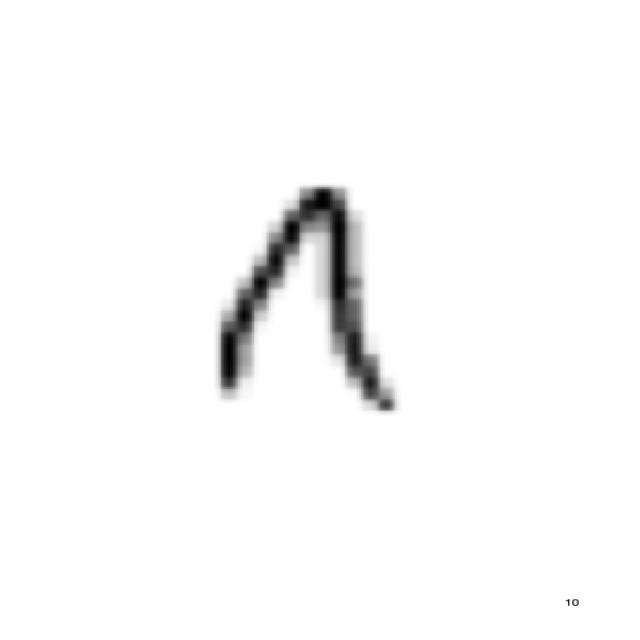8 -eight-: (188, 162, 422, 423)
